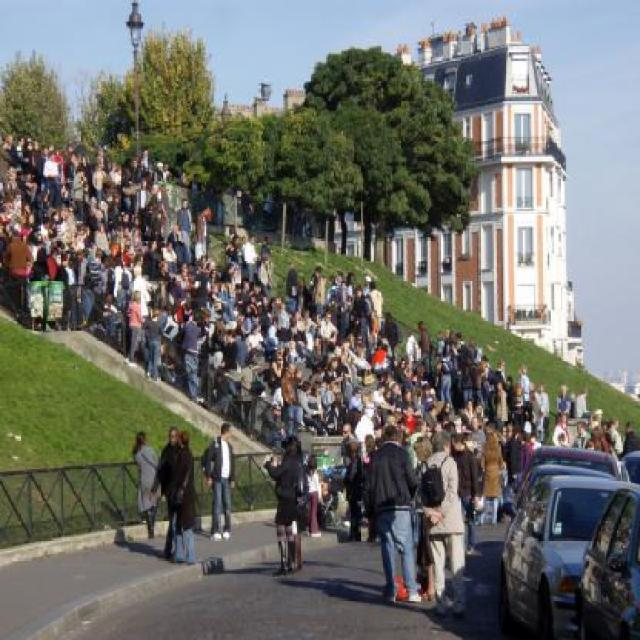Person: (0, 129, 638, 618), (262, 436, 300, 570), (166, 431, 197, 566), (200, 418, 234, 540), (149, 428, 177, 558), (131, 428, 164, 537), (290, 435, 312, 568), (302, 456, 324, 538)
